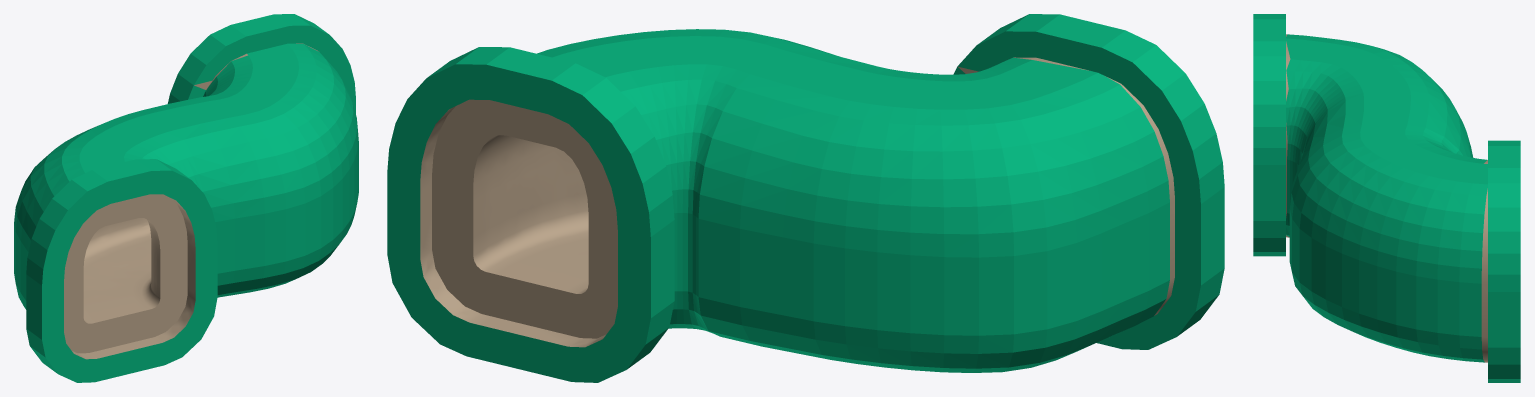
The model's file is TT_C_Dogleg_R.fbx.
3 views of the same model, side by side, from view 1: azimuth 30°, elevation 25°; view 2: azimuth 150°, elevation 25°; view 3: azimuth 270°, elevation 25° (orthographic). The views are drawn at different scales.
Visible parts, largest first — view 1: TT_C_Dogleg_R_LOD0; view 2: TT_C_Dogleg_R_LOD0; view 3: TT_C_Dogleg_R_LOD0.
Boxes of the visible parts, x1,y1,x2,y2 form: TT_C_Dogleg_R_LOD0: (14, 14, 358, 382); TT_C_Dogleg_R_LOD0: (387, 14, 1224, 382); TT_C_Dogleg_R_LOD0: (1253, 14, 1520, 382).
Bounding box in the file's own units: 780 × 344 × 410.
